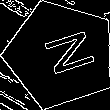N_W: (29, 27, 92, 82)
